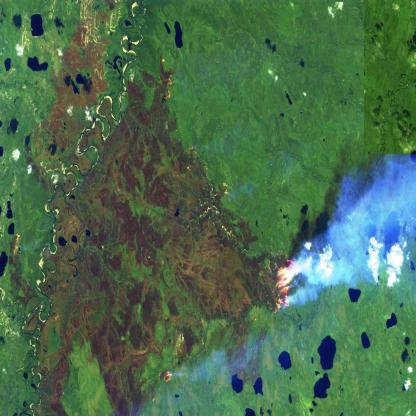fire: (263, 243, 308, 323), (158, 52, 178, 108), (155, 363, 178, 389), (216, 176, 233, 204), (10, 229, 26, 257)
